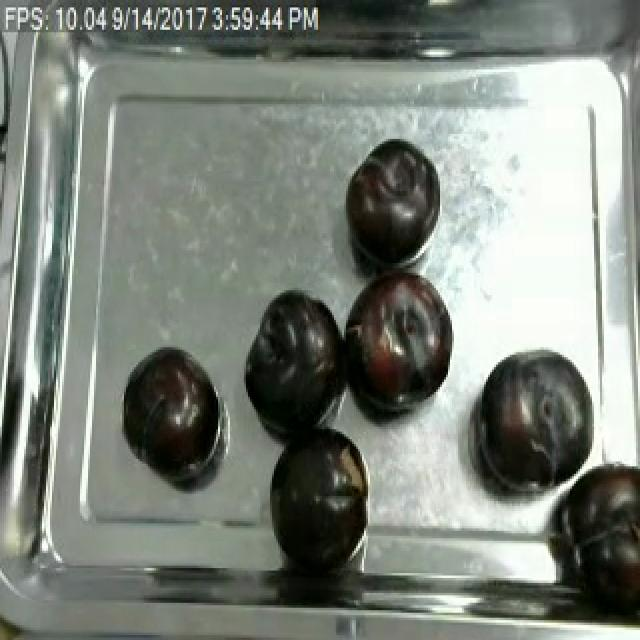Fruit: (470, 344, 596, 504), (338, 263, 458, 422), (238, 285, 348, 442), (264, 422, 376, 570), (556, 452, 640, 628), (120, 342, 224, 477), (340, 137, 438, 266)
